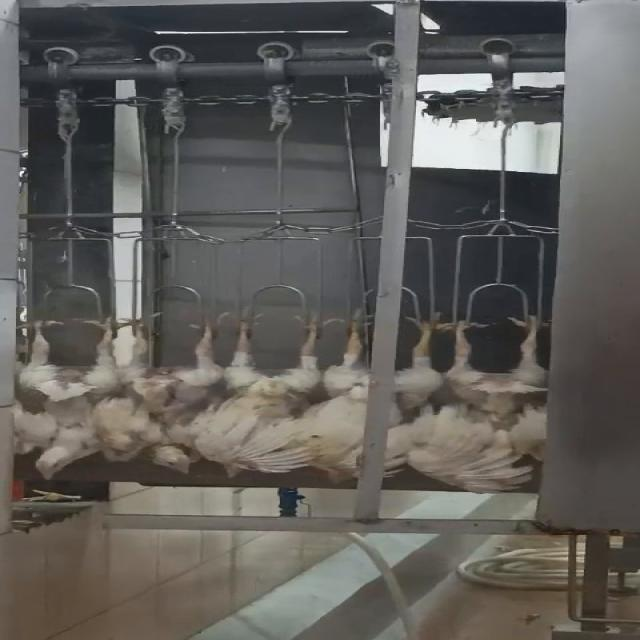chicken: (302, 310, 475, 484), (110, 303, 256, 475), (0, 310, 147, 479), (436, 313, 558, 496), (208, 310, 333, 483)
